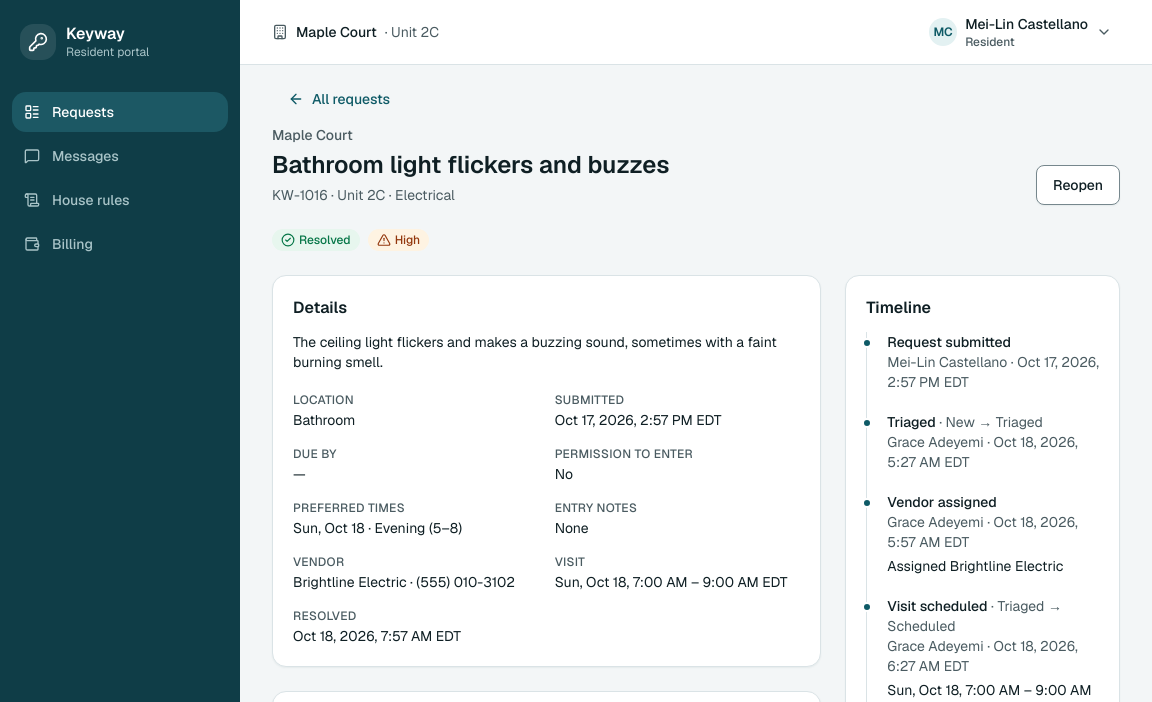
Test: requests list › lets a resident reopen a request resolved this week
The width and height of the screenshot is (1152, 702).
Click the button "Reopen" at (1078, 185), box [1036,165,1120,205]
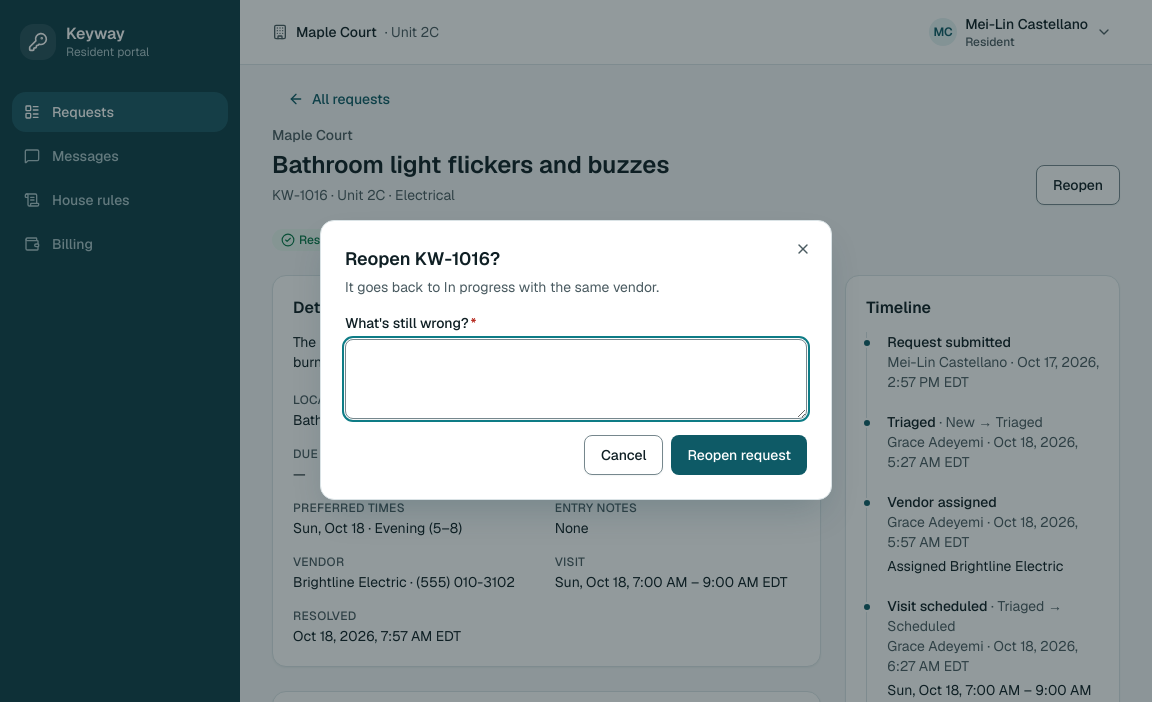
Click the button "Reopen request" at (740, 455), box [672,435,808,475]
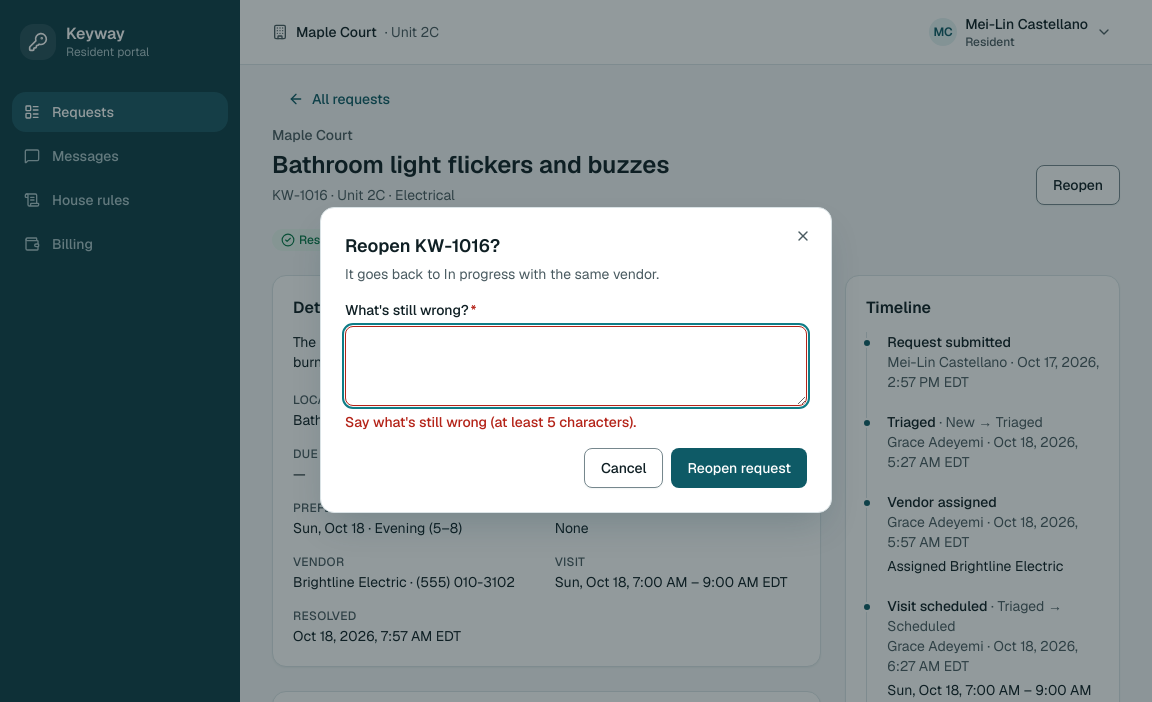
Now the text "Say what's still wrong (at least 5 characters)." is shown, box [345,413,636,431]
Type "The light buzzes again at night." into the text box labelled "What's still wrong?*" at (576, 366), box [345,326,807,406]
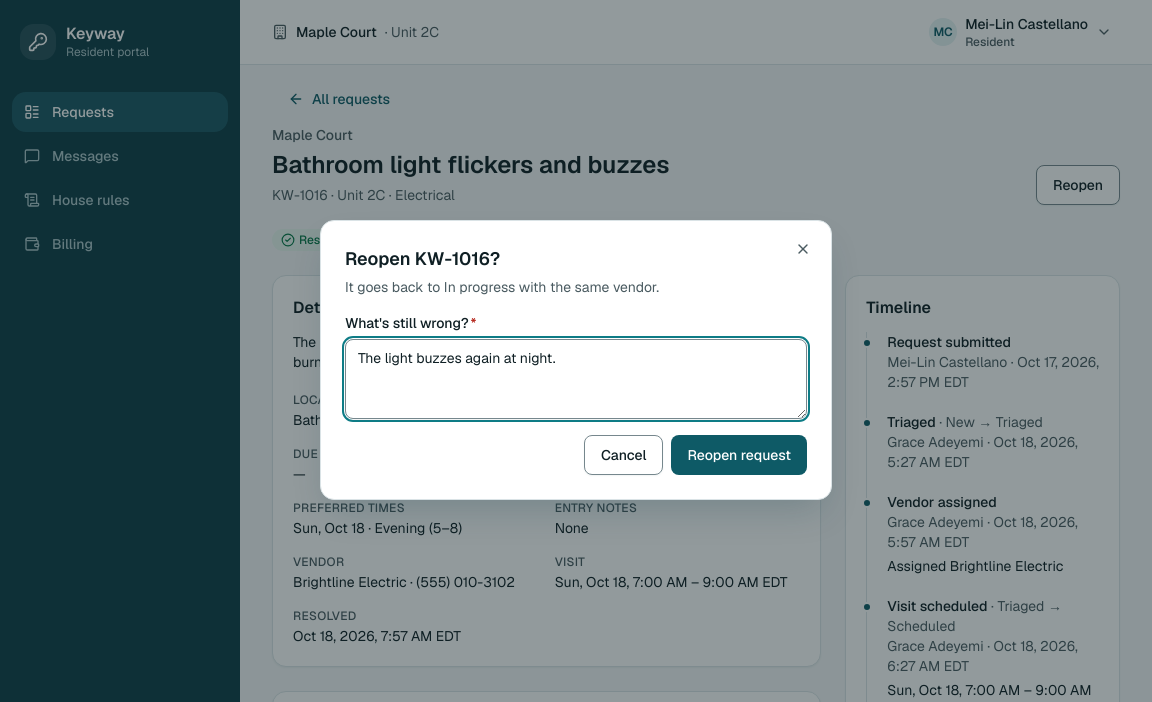
Click the button "Reopen request" at (740, 455), box [672,435,808,475]
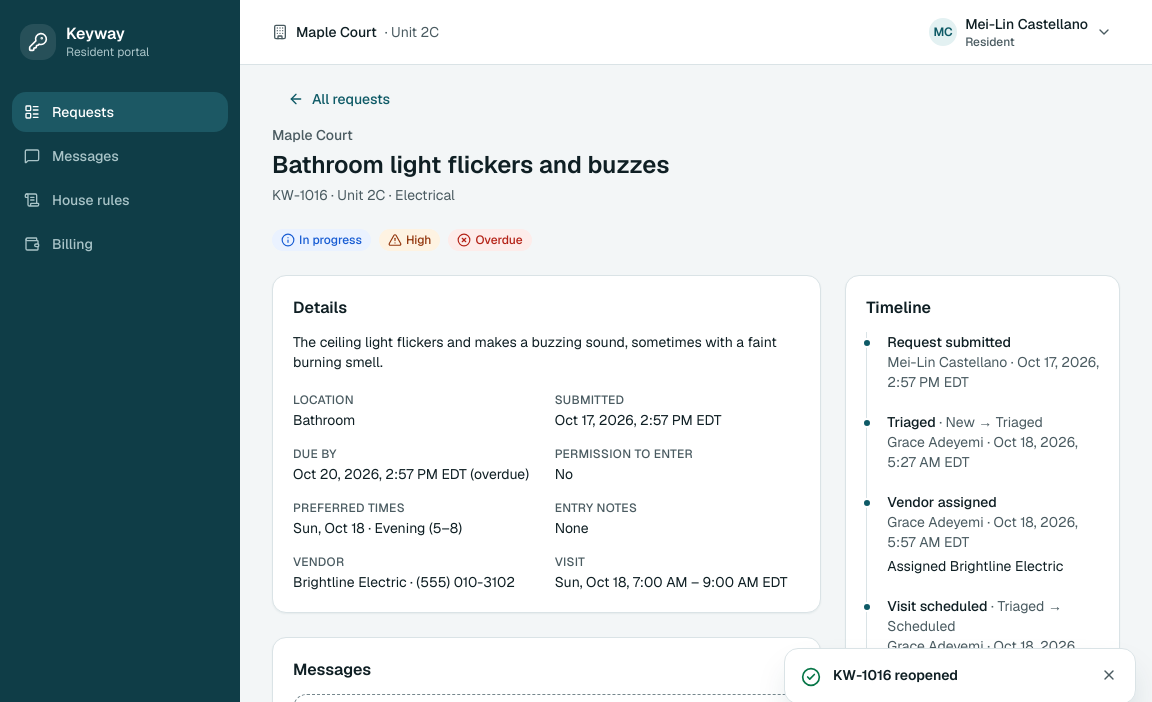
Now the text "KW-1016 reopened" is shown, box [833,666,958,684]
